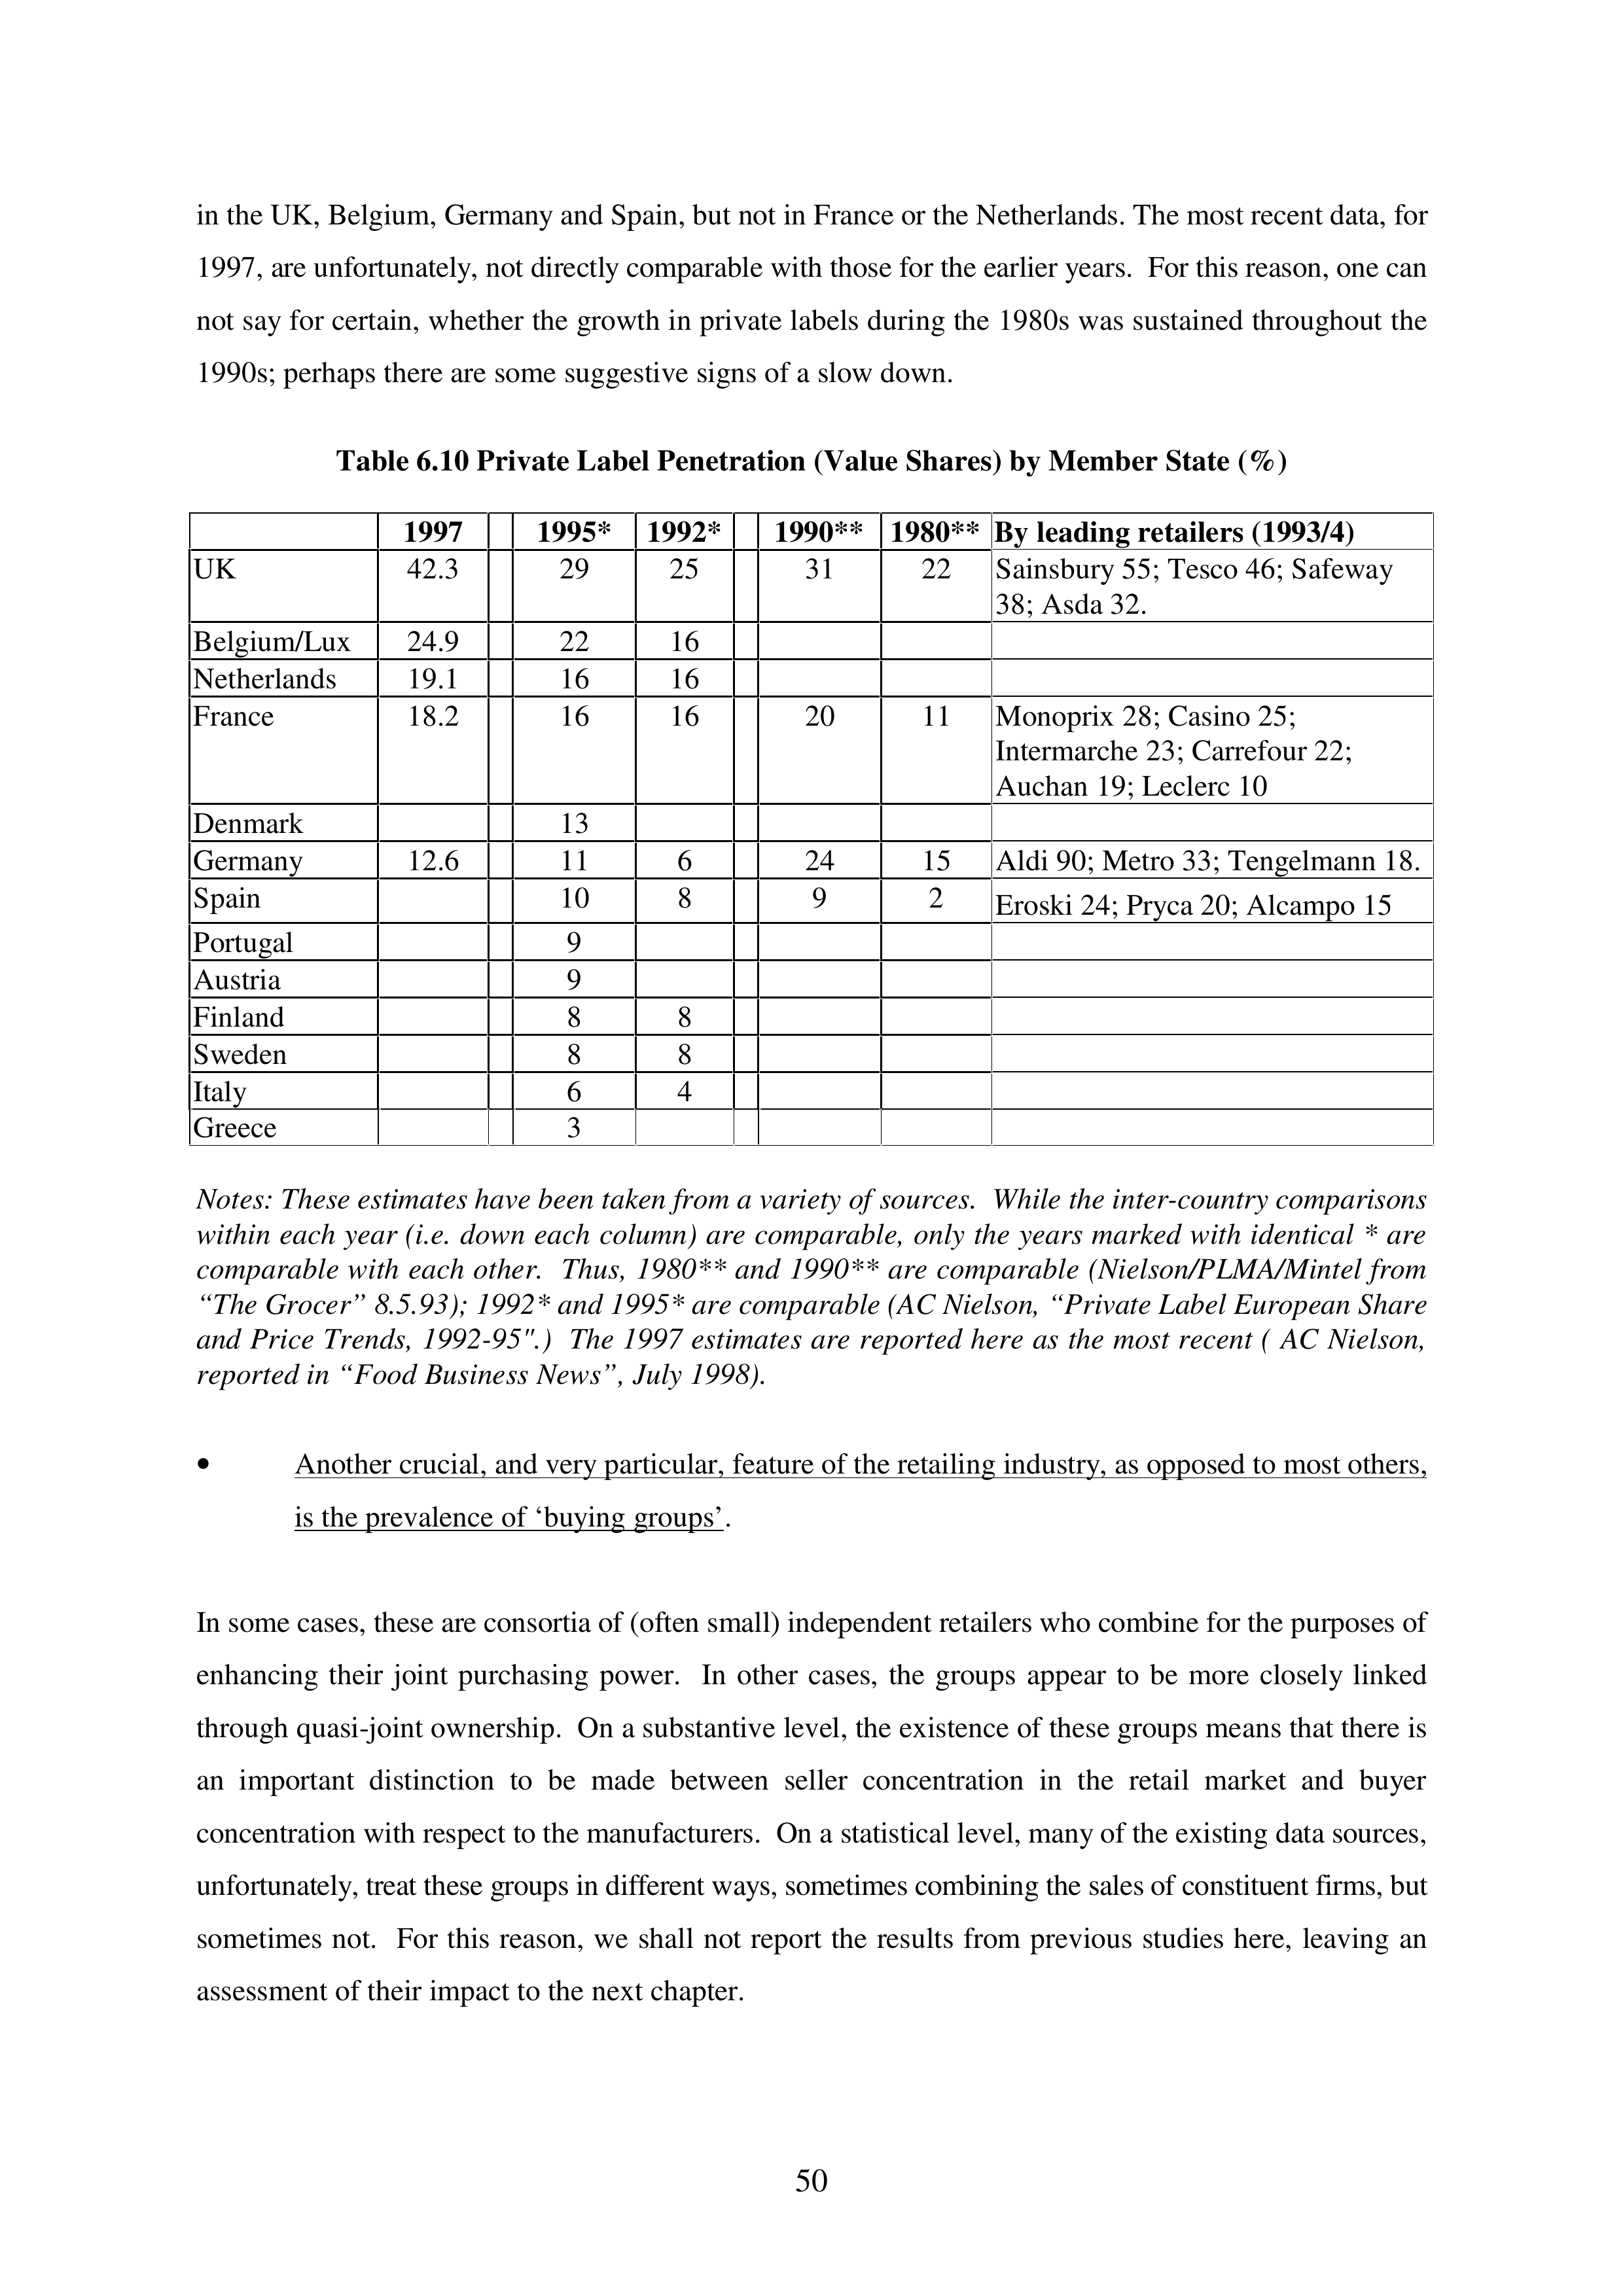table: (186, 507, 1437, 1150)
